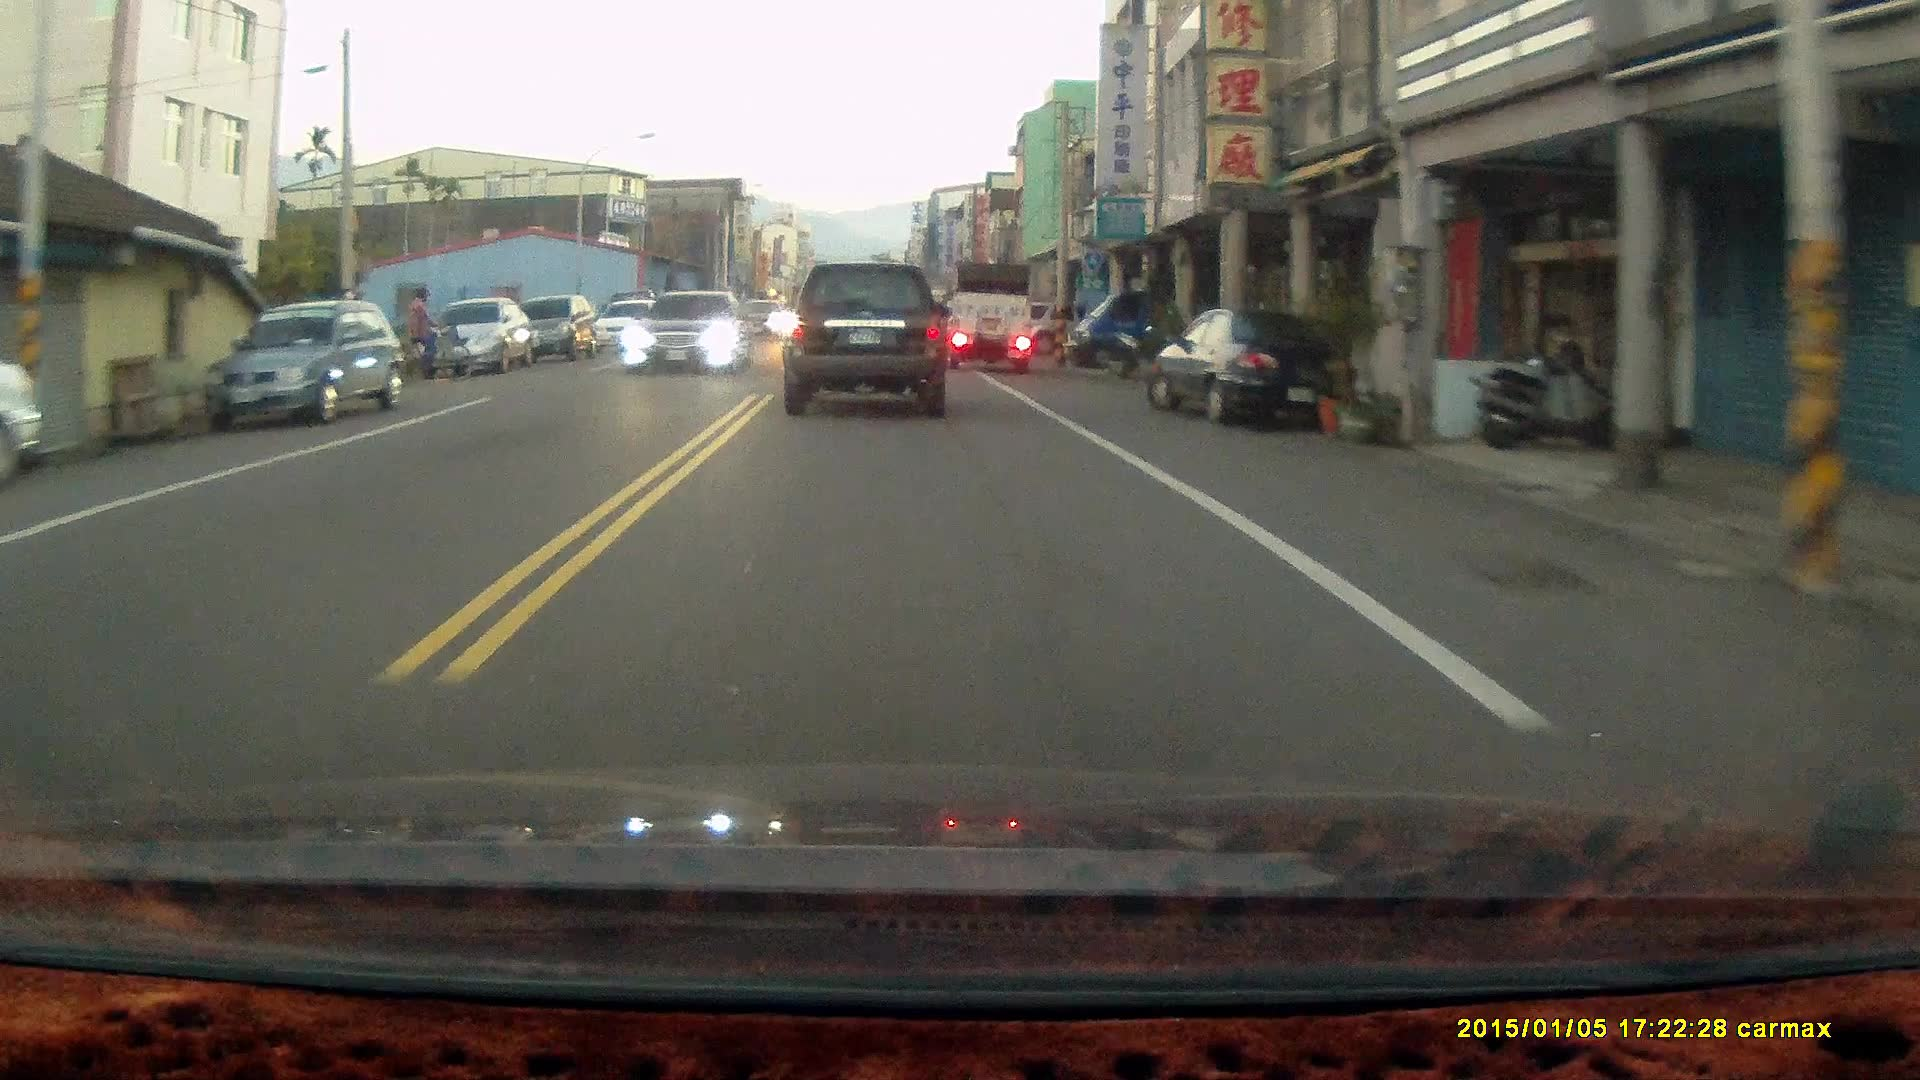rider: (376, 289, 474, 386)
vehicle: (787, 267, 955, 424), (209, 301, 411, 427), (1149, 308, 1354, 427), (1065, 279, 1208, 376), (619, 291, 751, 383), (947, 258, 1034, 372), (421, 296, 533, 374), (509, 296, 597, 364), (592, 300, 674, 357)
